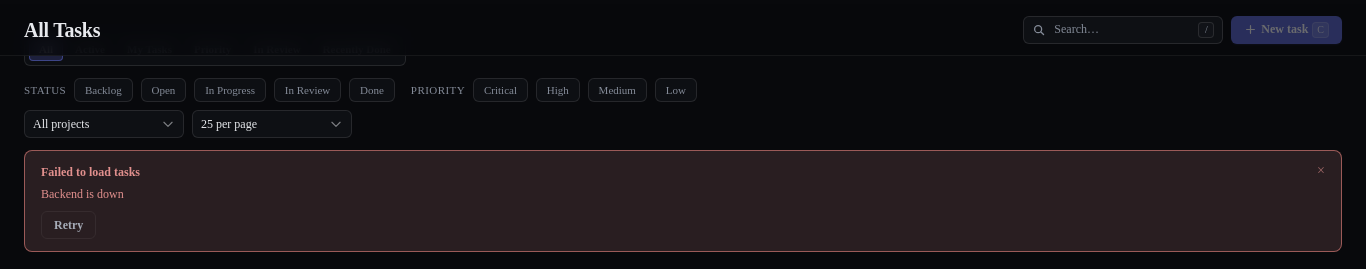
Scenario: /tasks failed load: focus when the error affordances unmount › dismissing the banner focuses the inline Retry that replaces it
Expected: the text "Failed to load tasks" is shown, [41, 165, 140, 179]
Click the button named "Dismiss".
click(1321, 171)  # box [1309, 159, 1333, 183]
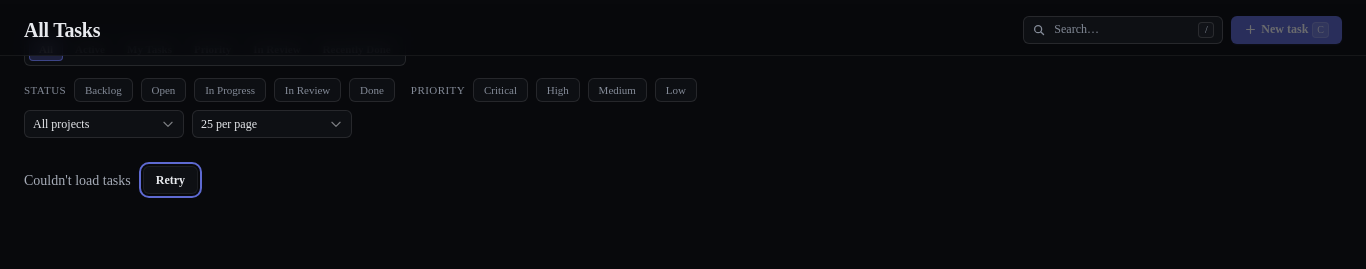
Result: the text "Couldn't load tasks" is shown at [24, 170, 131, 191]
